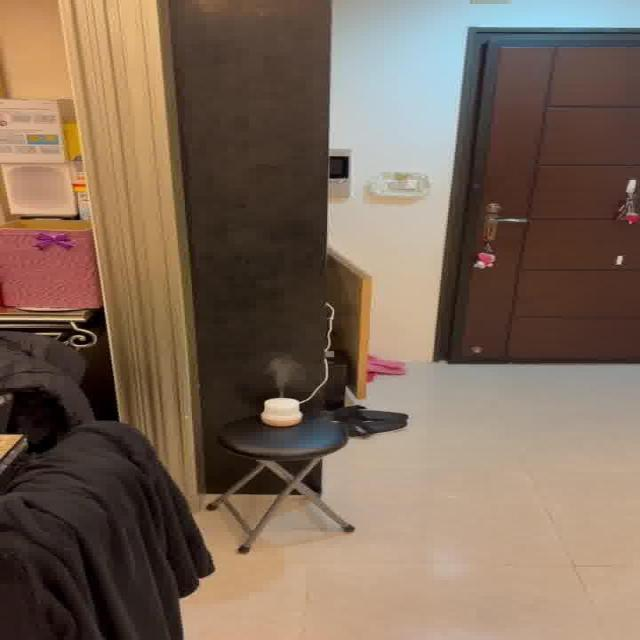fire: (258, 356, 306, 394)
